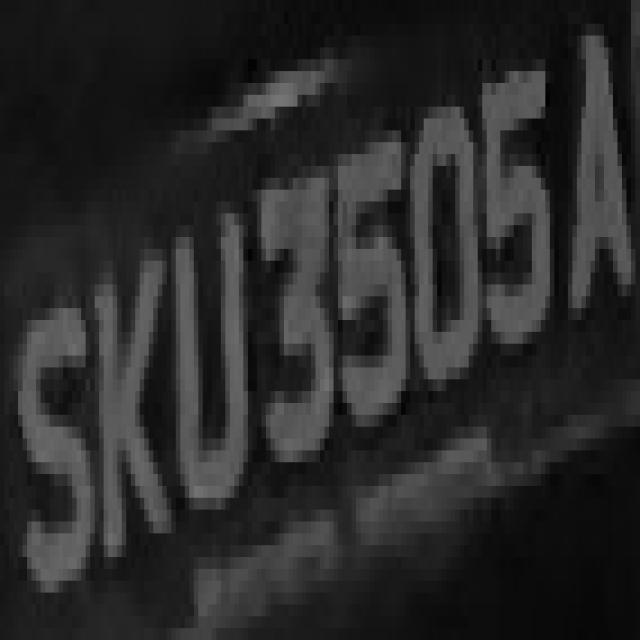0: (396, 83, 486, 438)
3: (252, 130, 347, 474)
5: (474, 48, 564, 391), (334, 118, 414, 450)
A: (554, 35, 631, 332)
K: (76, 237, 158, 581)
S: (5, 284, 94, 604)
U: (158, 190, 257, 557)
